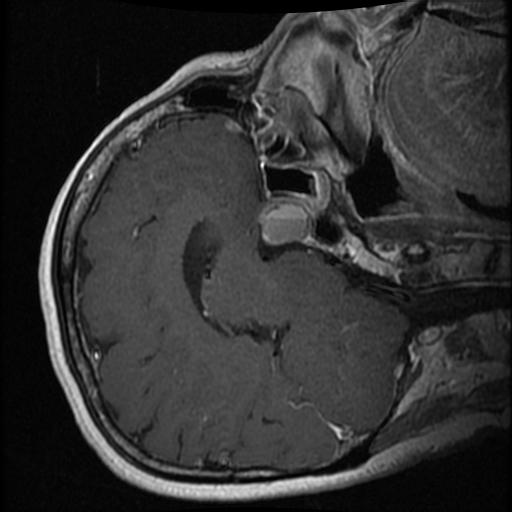pituitary tumour: (259, 202, 305, 244)
